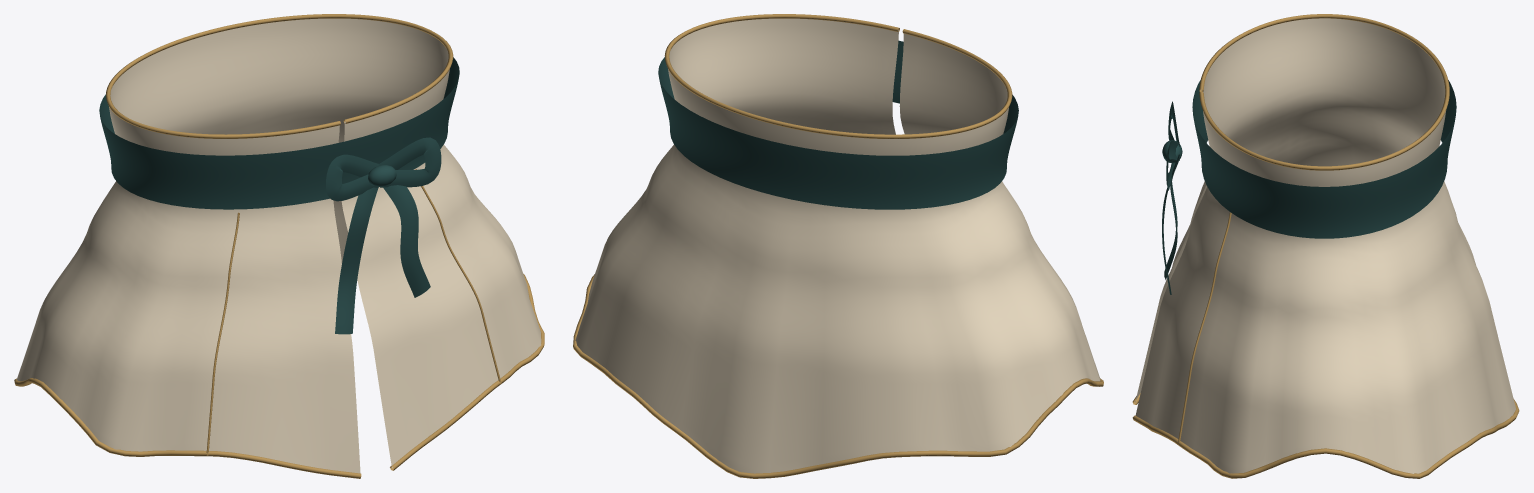
Rendered from baska.glb.
3 renders of one model, left to right at view 1: azimuth 30°, elevation 25°; view 2: azimuth 150°, elevation 25°; view 3: azimuth 270°, elevation 25°, orthographic. The views are drawn at different scales.
Visible parts, largest first — view 1: body.tailored-peplum, belt.waist-sash, trim.top-binding, trim.sculpted-hem, belt.tie-tail-left, belt.tie-tail-right, belt.tie-right-loop, belt.tie-left-loop, trim.panel-seam--1, trim.panel-seam-1; view 2: body.tailored-peplum, belt.waist-sash, trim.top-binding, trim.sculpted-hem; view 3: body.tailored-peplum, belt.waist-sash, trim.top-binding, trim.sculpted-hem, trim.panel-seam-1.
Boxes of the visible parts, box(x1,y1,x2,y2) form: body.tailored-peplum: box(16, 18, 541, 473); belt.waist-sash: box(99, 57, 459, 209); trim.top-binding: box(106, 14, 453, 138); trim.sculpted-hem: box(14, 274, 544, 478); belt.tie-tail-left: box(335, 187, 378, 334); belt.tie-tail-right: box(383, 185, 430, 297); belt.tie-right-loop: box(378, 137, 441, 187); belt.tie-left-loop: box(326, 154, 378, 201); trim.panel-seam--1: box(206, 212, 239, 455); trim.panel-seam-1: box(415, 169, 501, 383); body.tailored-peplum: box(575, 18, 1100, 473); belt.waist-sash: box(658, 40, 1018, 209); trim.top-binding: box(664, 14, 1012, 138); trim.sculpted-hem: box(573, 274, 1103, 478); body.tailored-peplum: box(1135, 18, 1515, 473); belt.waist-sash: box(1192, 80, 1456, 238); trim.top-binding: box(1199, 14, 1449, 170); trim.sculpted-hem: box(1132, 393, 1519, 478); trim.panel-seam-1: box(1177, 212, 1231, 444).
Size of the model in its own units: 0.5737 by 0.38 by 0.4122.
